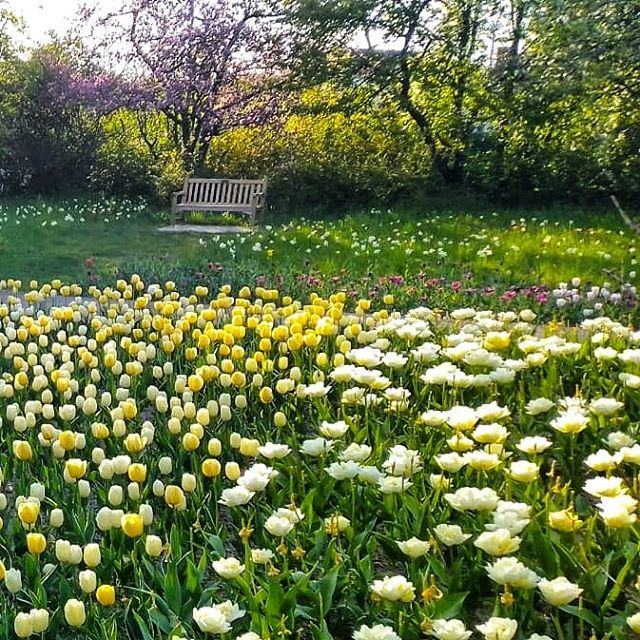bench: (166, 171, 267, 224)
flowers: (1, 272, 640, 640)
vegetation: (1, 1, 632, 206)
